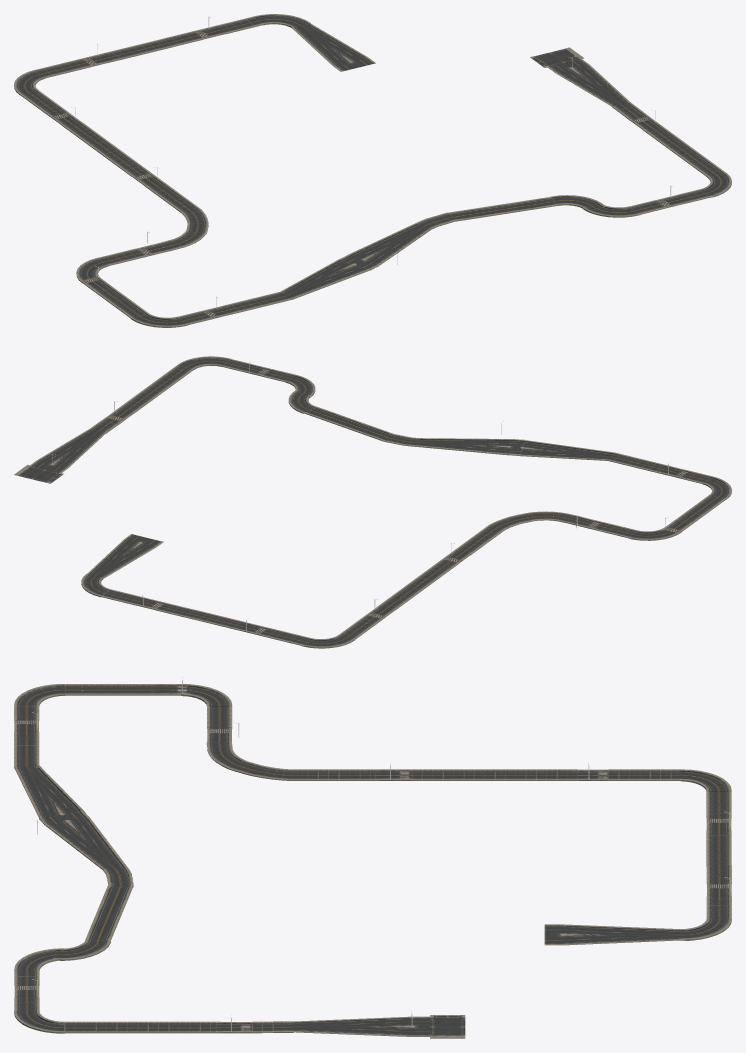
Rendered from Roads.glb.
3 renders of one model, top to bottom at view 1: azimuth 30°, elevation 25°; view 2: azimuth 150°, elevation 25°; view 3: azimuth 270°, elevation 25°, orthographic. The views are drawn at different scales.
Parts seen in each view (by area): view 1: Object_12 (2); view 2: Object_12 (2); view 3: Object_12 (2).
Boxes of the visible parts, x1,y1,x2,y2 form: Object_12 (2): (14, 14, 731, 327); Object_12 (2): (14, 356, 731, 648); Object_12 (2): (14, 677, 731, 1038).
Size of the model in its own units: 389 by 8.23 by 333.
Materials: 2 (1 with a texture image).
